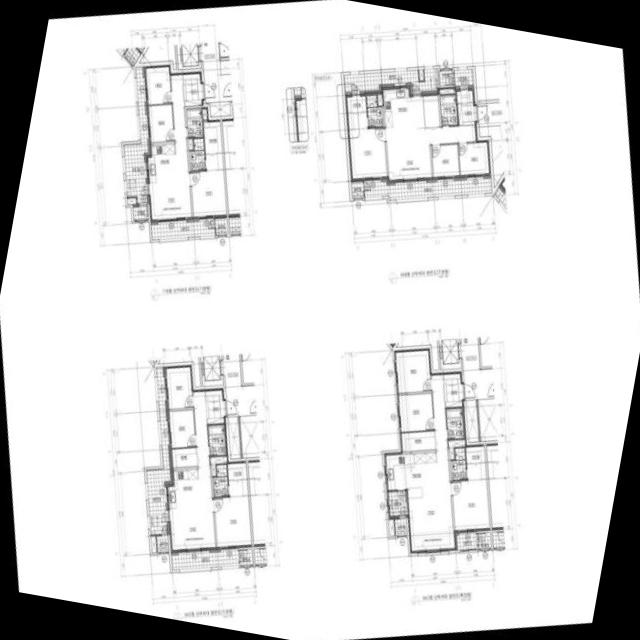background: (0, 0, 640, 640)
space_balconi: (145, 366, 170, 534), (122, 66, 148, 203), (363, 176, 491, 199), (343, 68, 438, 94), (171, 548, 238, 569), (150, 218, 214, 239), (147, 143, 177, 182), (386, 490, 408, 517), (453, 68, 473, 88), (456, 531, 476, 549)
space_bedroom: (222, 353, 256, 416), (213, 495, 251, 548), (347, 127, 386, 178), (452, 478, 489, 531), (190, 169, 226, 218), (393, 348, 430, 392), (396, 392, 433, 431), (164, 364, 192, 408), (143, 64, 171, 104), (167, 409, 195, 447), (458, 141, 490, 174), (146, 103, 173, 142), (431, 143, 459, 176)
space_dressroom: (344, 95, 367, 128), (465, 443, 485, 479), (227, 460, 247, 496), (203, 119, 221, 153), (205, 153, 222, 169)
space_elevator: (176, 42, 200, 69)
space_elevator_hall: (461, 336, 494, 399), (201, 41, 222, 101), (477, 102, 501, 126)
space_front: (443, 381, 464, 407), (182, 81, 204, 105), (205, 398, 226, 423), (457, 102, 477, 125)
space_kitchen: (383, 451, 439, 501), (382, 87, 424, 130), (165, 468, 200, 509)
space_living_room: (407, 372, 456, 553), (168, 388, 215, 552), (147, 72, 191, 221), (385, 124, 477, 179)
space_other: (239, 414, 259, 457), (477, 398, 497, 440), (399, 430, 435, 451), (422, 92, 439, 126), (227, 416, 240, 458), (465, 399, 478, 441), (169, 447, 196, 467), (205, 100, 232, 116), (209, 455, 226, 475), (448, 438, 465, 458), (443, 370, 461, 384), (204, 387, 223, 400), (475, 531, 490, 547), (456, 89, 474, 102), (182, 70, 201, 82), (439, 69, 453, 85), (132, 205, 148, 219), (239, 548, 252, 564), (150, 535, 156, 552), (439, 87, 455, 93), (388, 519, 394, 535), (201, 106, 208, 119), (126, 197, 136, 203), (377, 94, 382, 104), (418, 69, 423, 79), (188, 138, 192, 149)
space_outdoor_room: (215, 217, 227, 234), (394, 517, 406, 534), (351, 181, 363, 197), (156, 535, 168, 551)
space_toilet: (439, 93, 457, 125), (207, 424, 225, 455), (445, 407, 463, 438), (366, 94, 383, 126), (212, 463, 228, 496), (189, 137, 205, 170), (450, 447, 466, 479), (186, 107, 202, 137)
